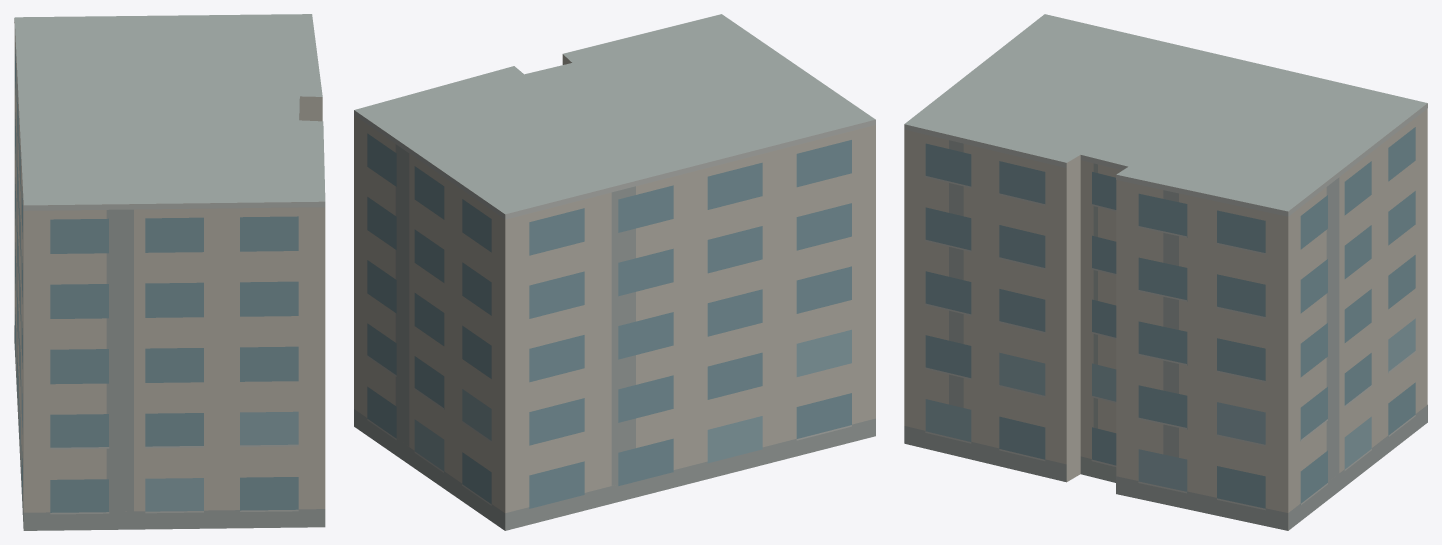
File: survey-upis-32876799.glb
3 views of the same model, side by side, from view 1: azimuth 30°, elevation 25°; view 2: azimuth 150°, elevation 25°; view 3: azimuth 270°, elevation 25° (orthographic). The views are drawn at different scales.
Parts seen in each view (by area): view 1: survey-upis-32876799.tmp; view 2: survey-upis-32876799.tmp; view 3: survey-upis-32876799.tmp.
Boxes of the visible parts, left/top/right/bottom form: survey-upis-32876799.tmp: left=14, top=14, right=325, bottom=530; survey-upis-32876799.tmp: left=354, top=14, right=875, bottom=530; survey-upis-32876799.tmp: left=904, top=14, right=1427, bottom=530.
Bounding box in the file's own units: 19.37 × 14.6 × 21.7.
